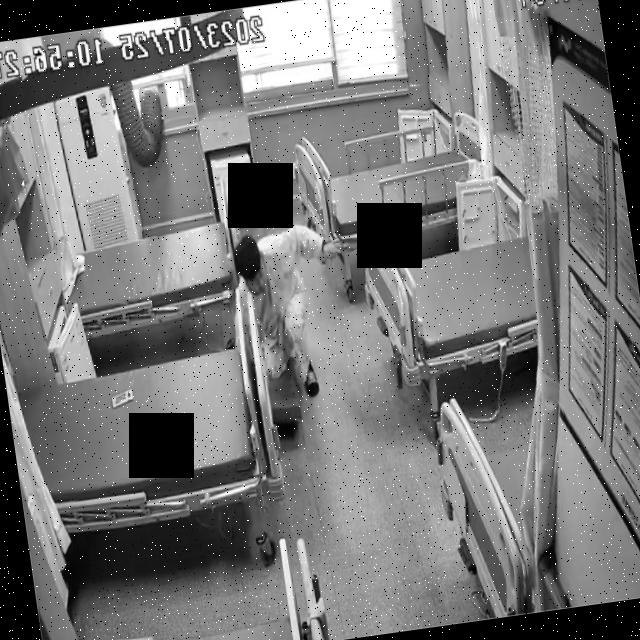bed: (13, 338, 269, 542), (352, 194, 547, 392), (294, 110, 494, 256), (54, 194, 250, 340)
fall: (228, 218, 362, 408)
patient: (228, 218, 362, 406)
